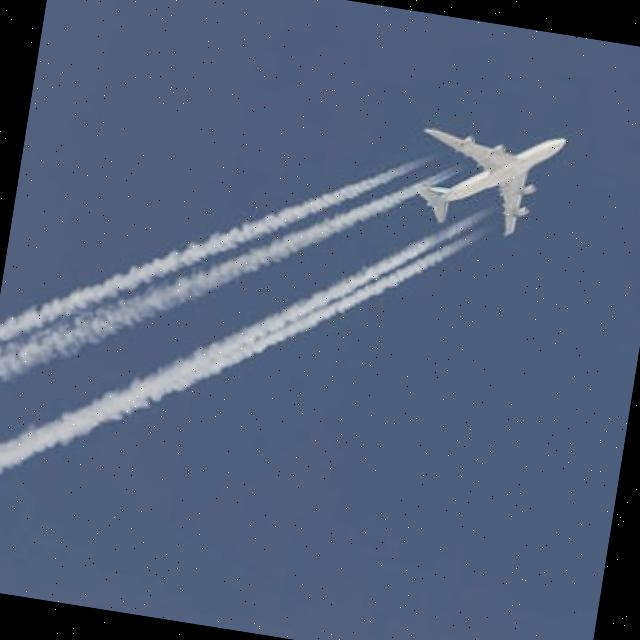Ct: (1, 95, 390, 580)
